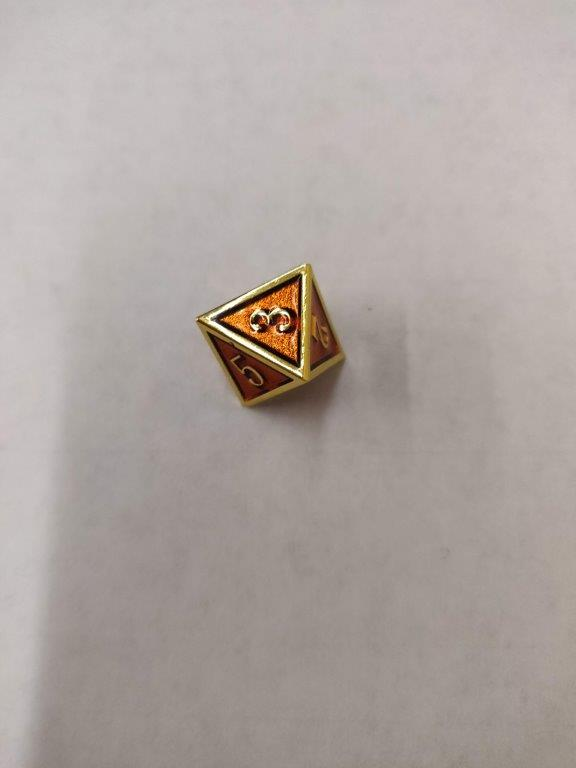d8-3: (192, 261, 348, 410)
